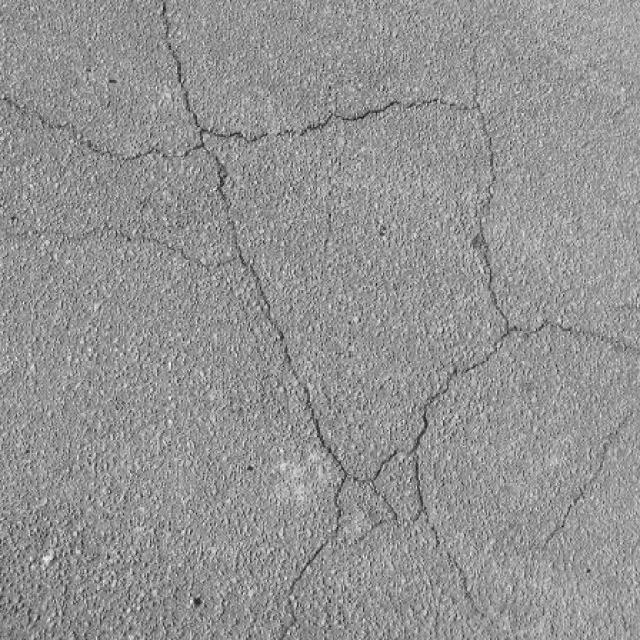Crack: (4, 5, 632, 636), (540, 414, 632, 551)
